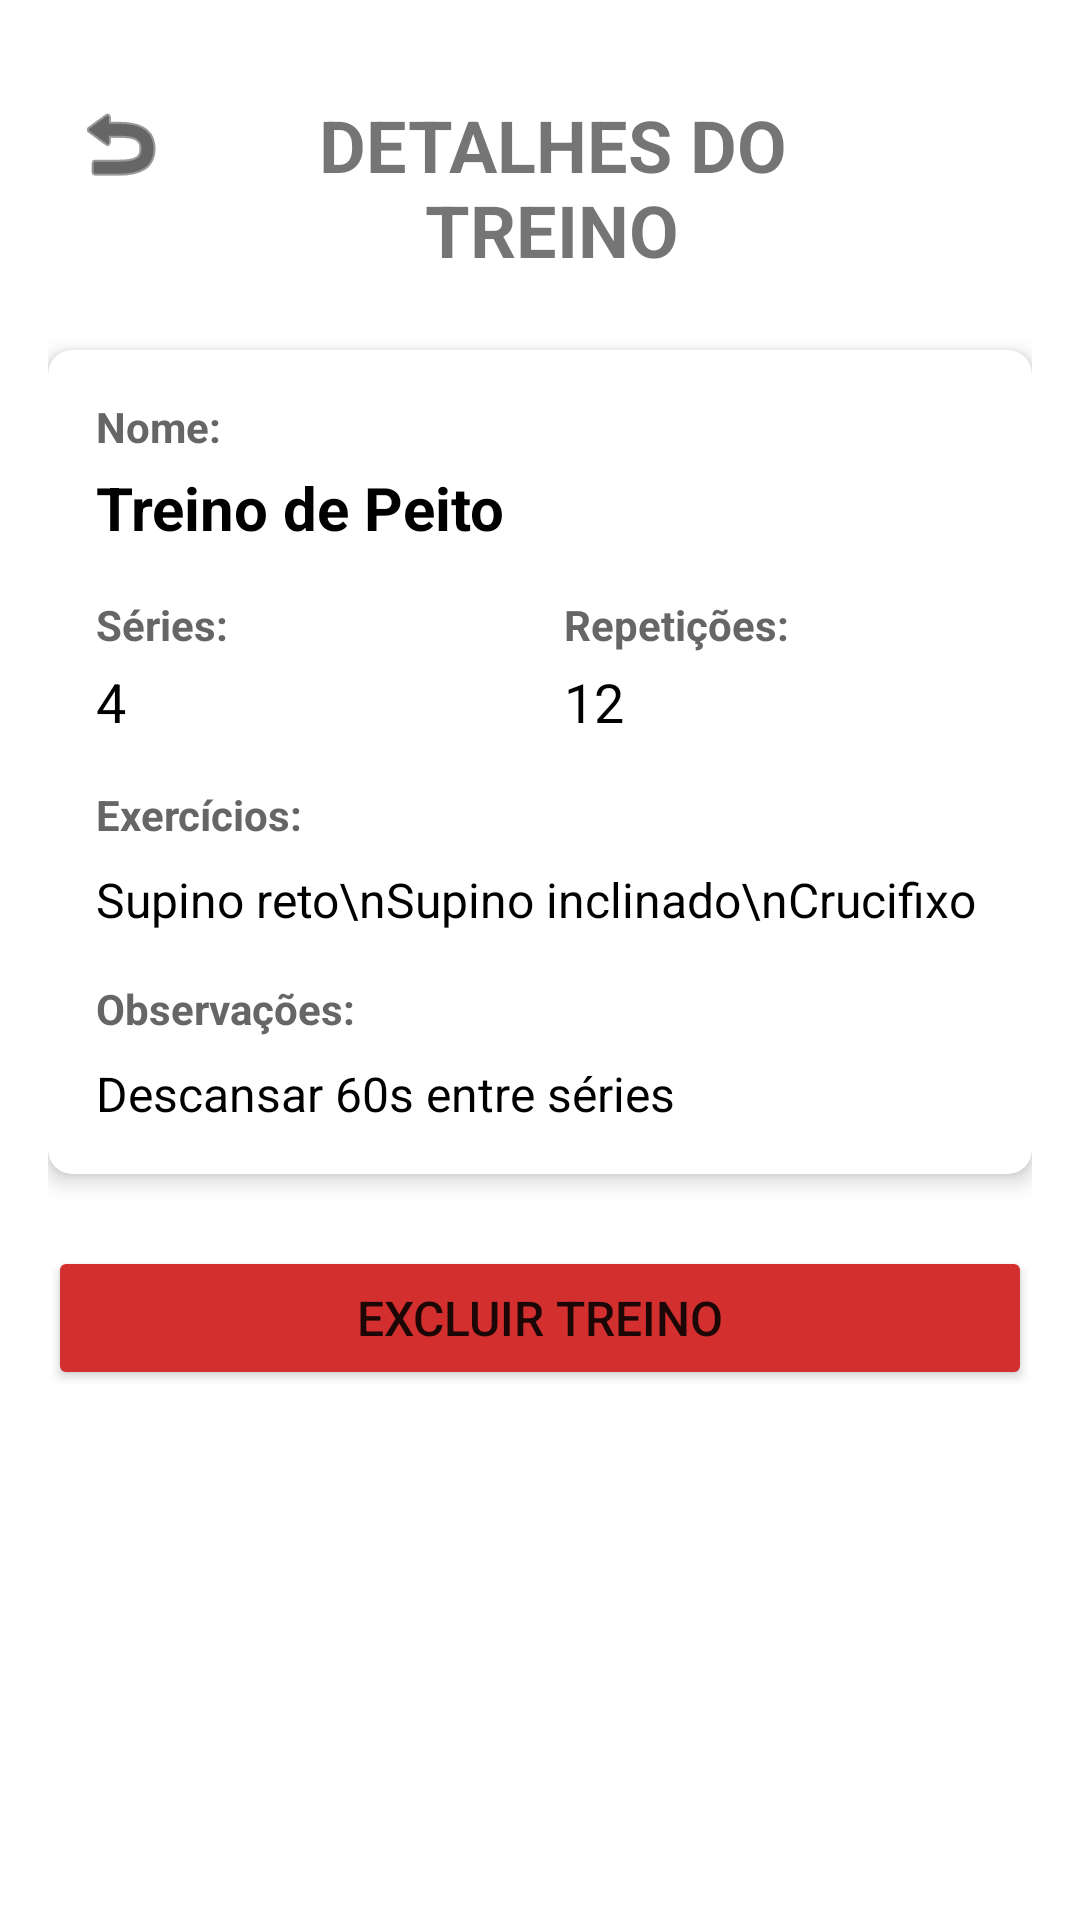

Screen size 1080x1920. Icon name, then its center in pixels as point (x, y):
Voltar: point (121, 144)
